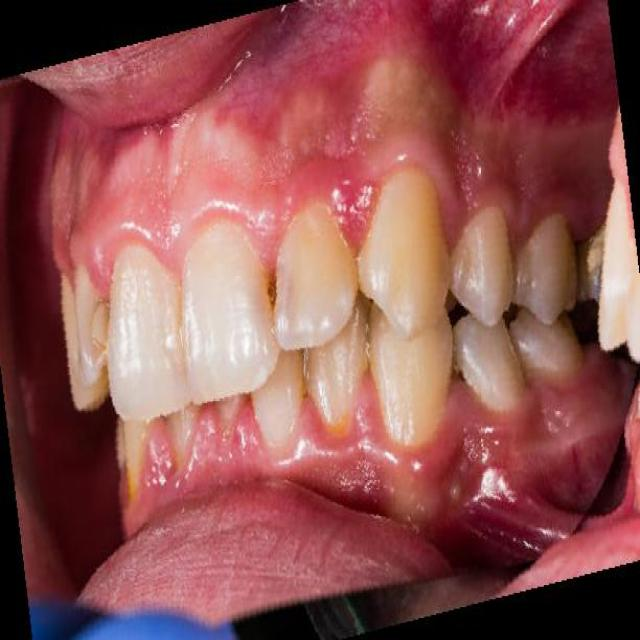caries: (255, 254, 293, 320)
